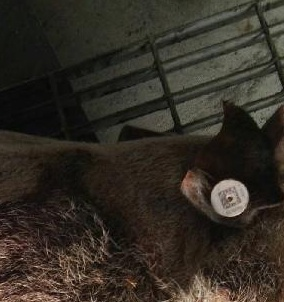text: (200, 163, 262, 229)
